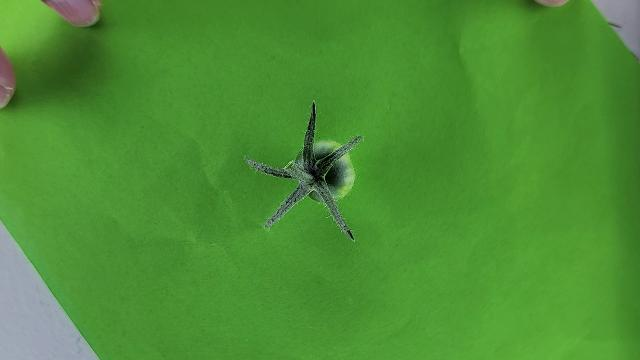Fruit Maturation: (295, 139, 357, 204)
